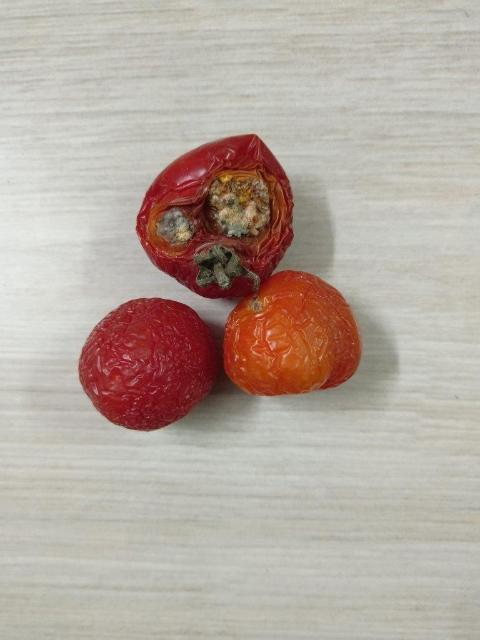defect: (133, 131, 303, 305)
